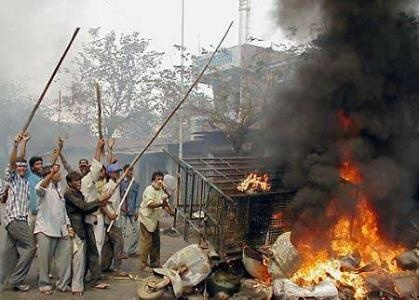fire: (284, 160, 408, 292), (235, 169, 271, 191)
